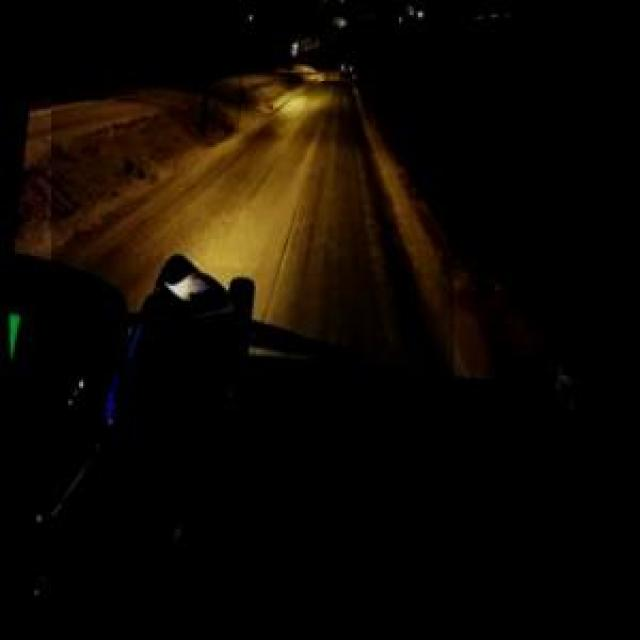ice-road: (52, 73, 454, 384)
